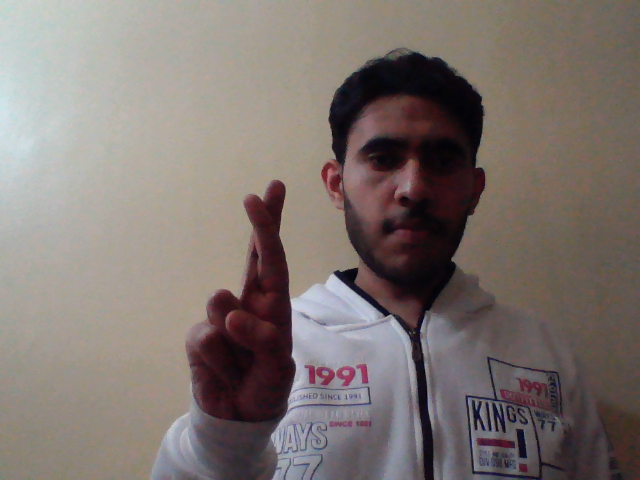R: (187, 178, 298, 435)
